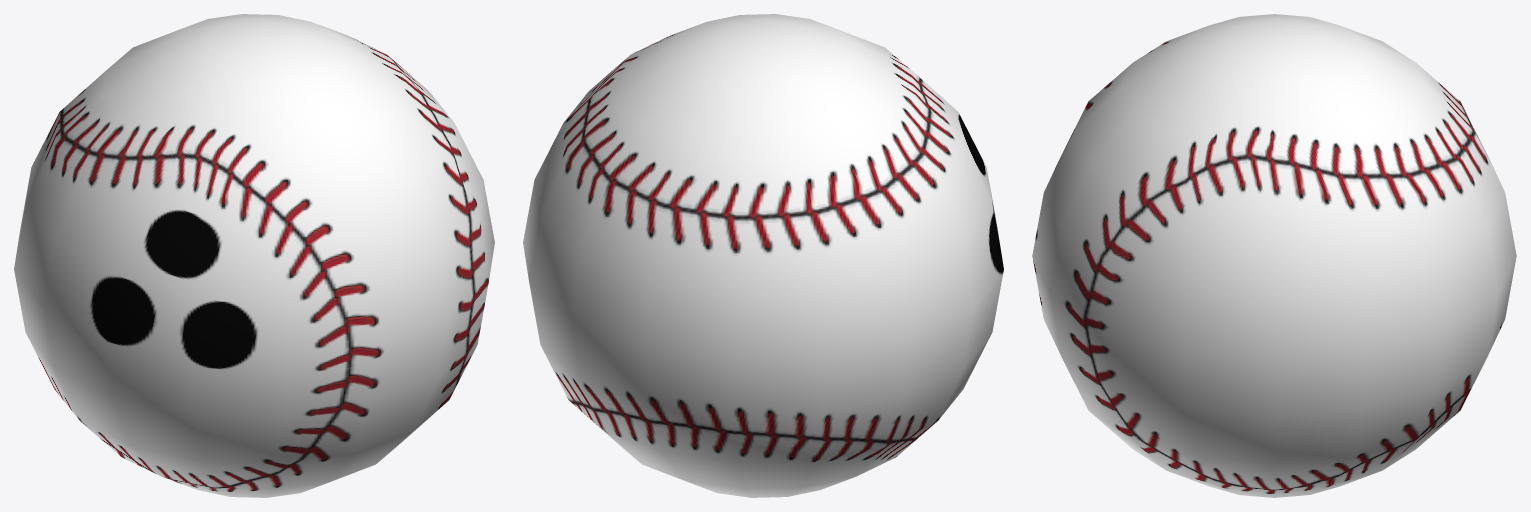
The model's file is qiu_07.FBX.
3 views of the same model, side by side, from view 1: azimuth 30°, elevation 25°; view 2: azimuth 150°, elevation 25°; view 3: azimuth 270°, elevation 25° (orthographic).
Parts seen in each view (by area): view 1: qiu_07; view 2: qiu_07; view 3: qiu_07.
Boxes of the visible parts, bbox=[...] form: qiu_07: bbox=[14, 14, 494, 497]; qiu_07: bbox=[523, 14, 1003, 497]; qiu_07: bbox=[1032, 14, 1516, 497].
Bounding box in the file's own units: 585 × 585 × 585.
1 material, 1 textured.
